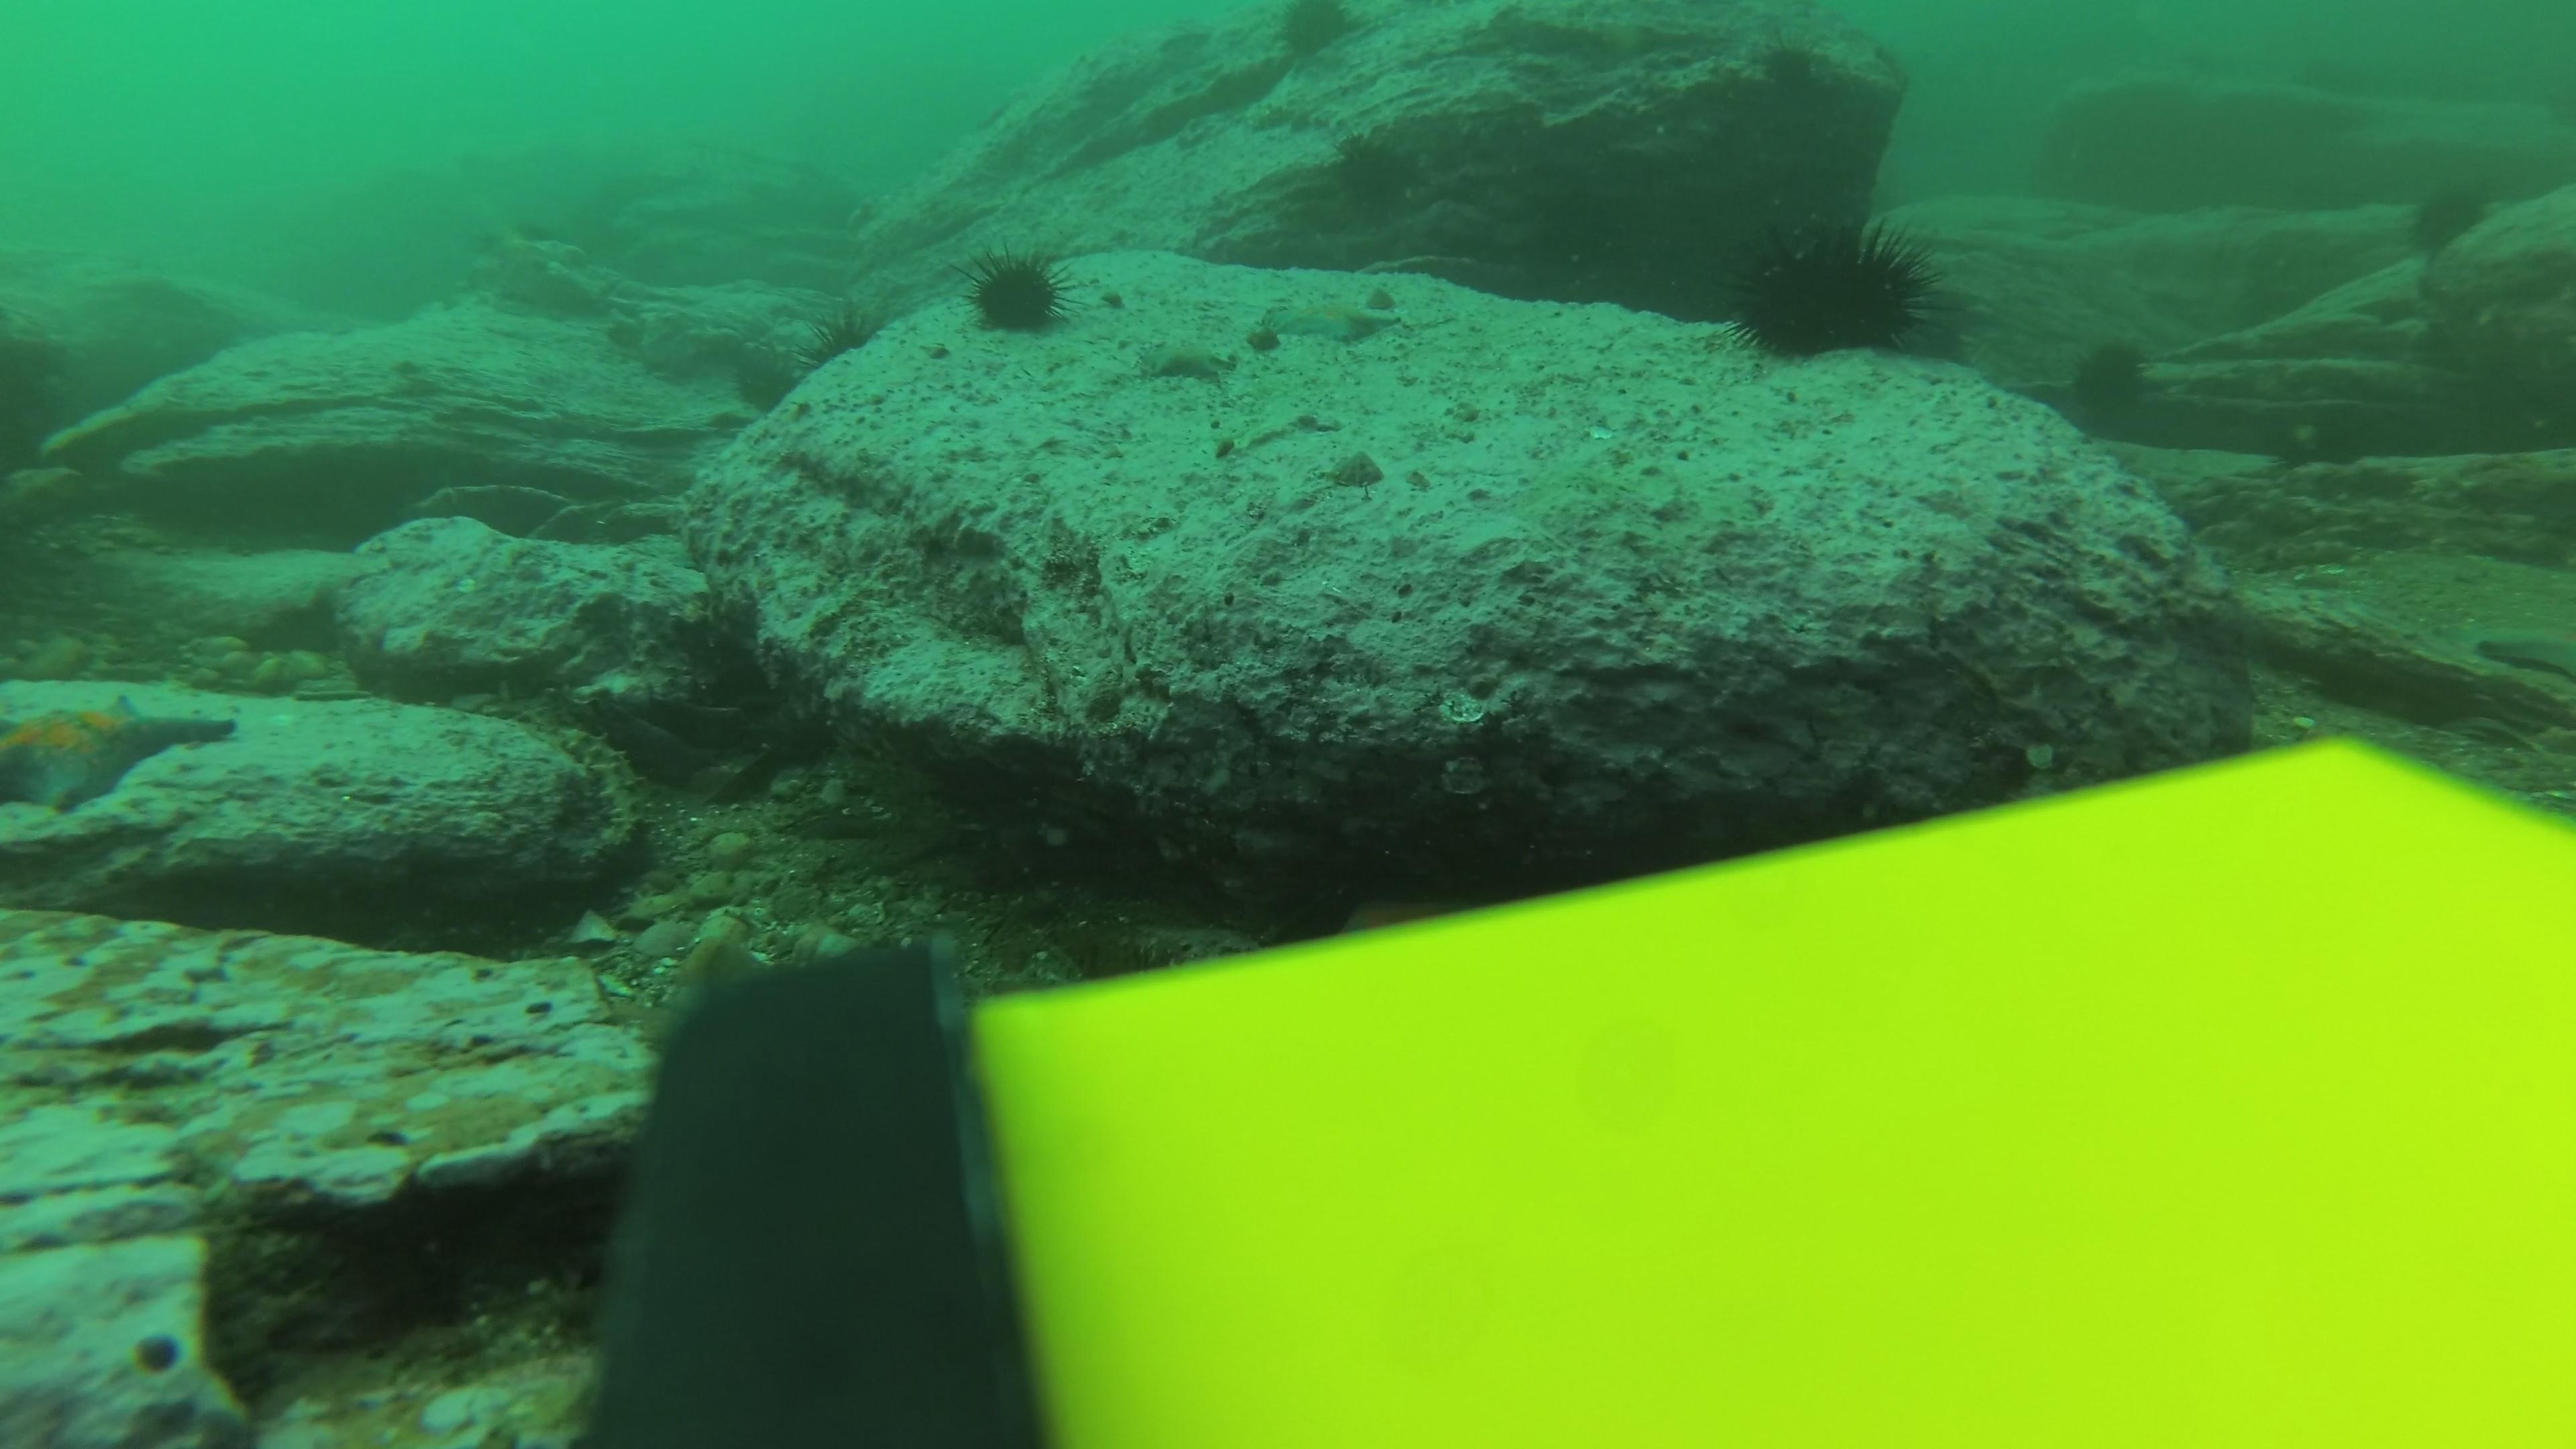echinus: (1718, 205, 1950, 372), (955, 239, 1079, 347), (2054, 331, 2166, 437), (1315, 127, 1430, 228), (2399, 172, 2502, 260), (1265, 0, 1369, 71), (800, 303, 879, 379), (1759, 25, 1835, 96)
holothurian: (556, 724, 662, 863)
starfish: (2, 678, 244, 824), (623, 911, 789, 1049), (1254, 294, 1405, 352), (2466, 619, 2576, 685), (1132, 333, 1242, 389)
